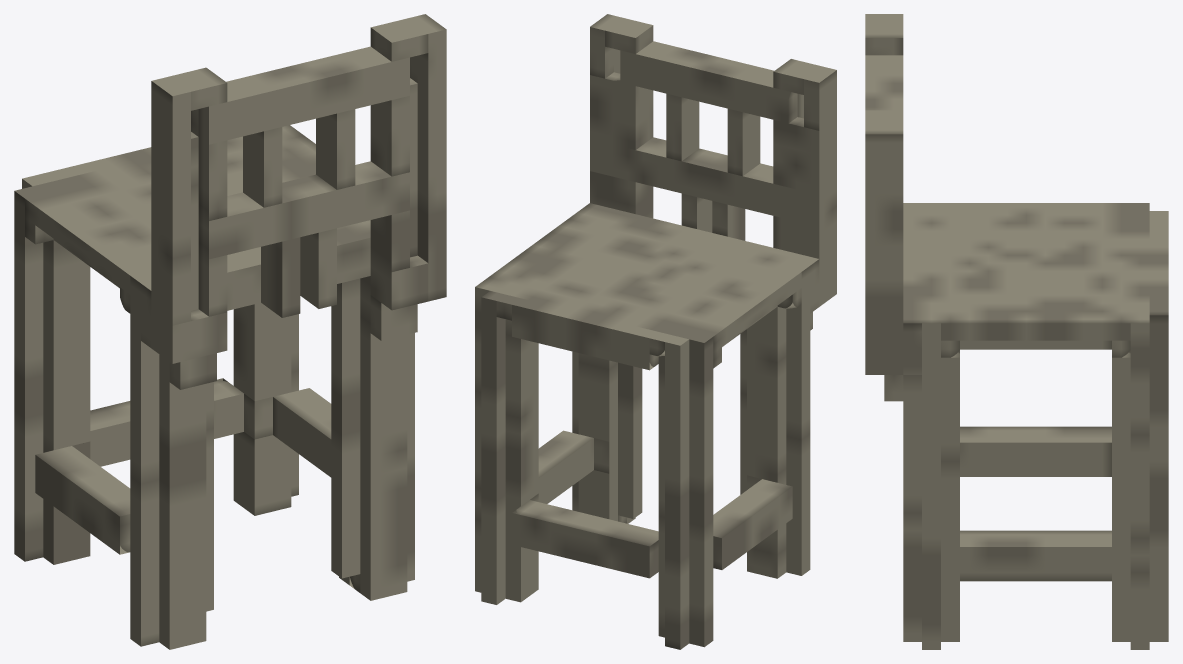
File: krzesło_01.dae
3 views of the same model, side by side, from view 1: azimuth 30°, elevation 25°; view 2: azimuth 150°, elevation 25°; view 3: azimuth 270°, elevation 25° (orthographic). The views are drawn at different scales.
Parts seen in each view (by area): view 1: Content; view 2: Content; view 3: Content.
Part boxes in pixels (x1,y1,x2,y2): Content: (14,14,446,649); Content: (475,14,836,649); Content: (865,14,1168,649).
Size of the model in its own units: 15 by 30 by 16.
1 material, 1 textured.
